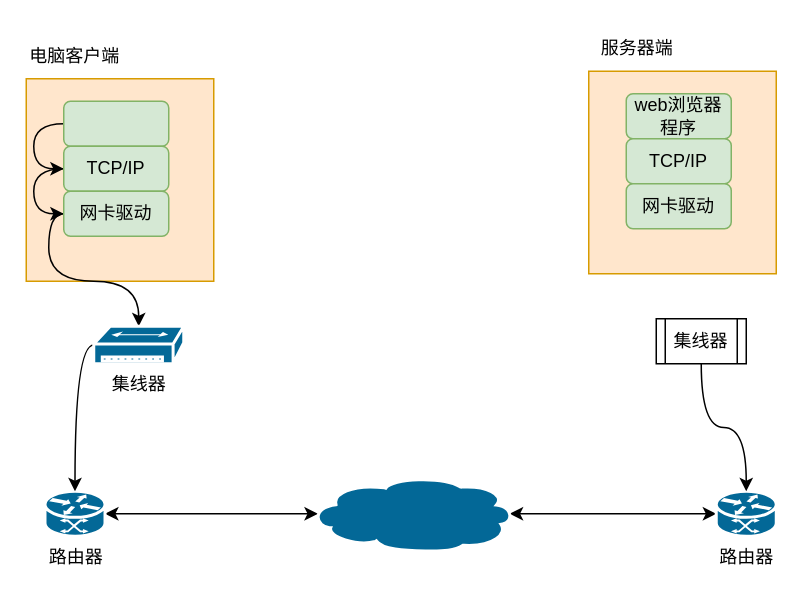
This 804x608 diagram has some shape labels left out. The shapes that lost their labels are listed below. From the top down, each one's centre as x and y in pixels, then its label:
At pixel 115 123: "web浏览器".
At pixel 411 513: "接入网".
